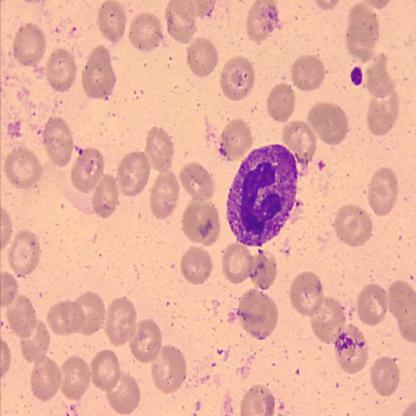Band Neutrophil: (224, 142, 300, 249)
